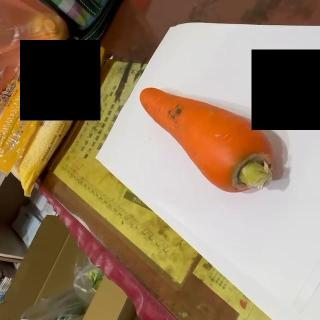carrot: (138, 87, 276, 192)
